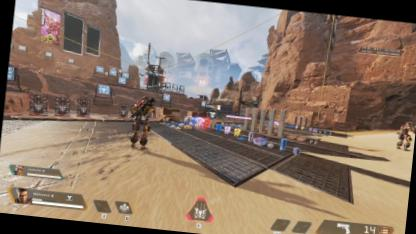Target: (126, 94, 154, 150), (394, 118, 414, 151)
